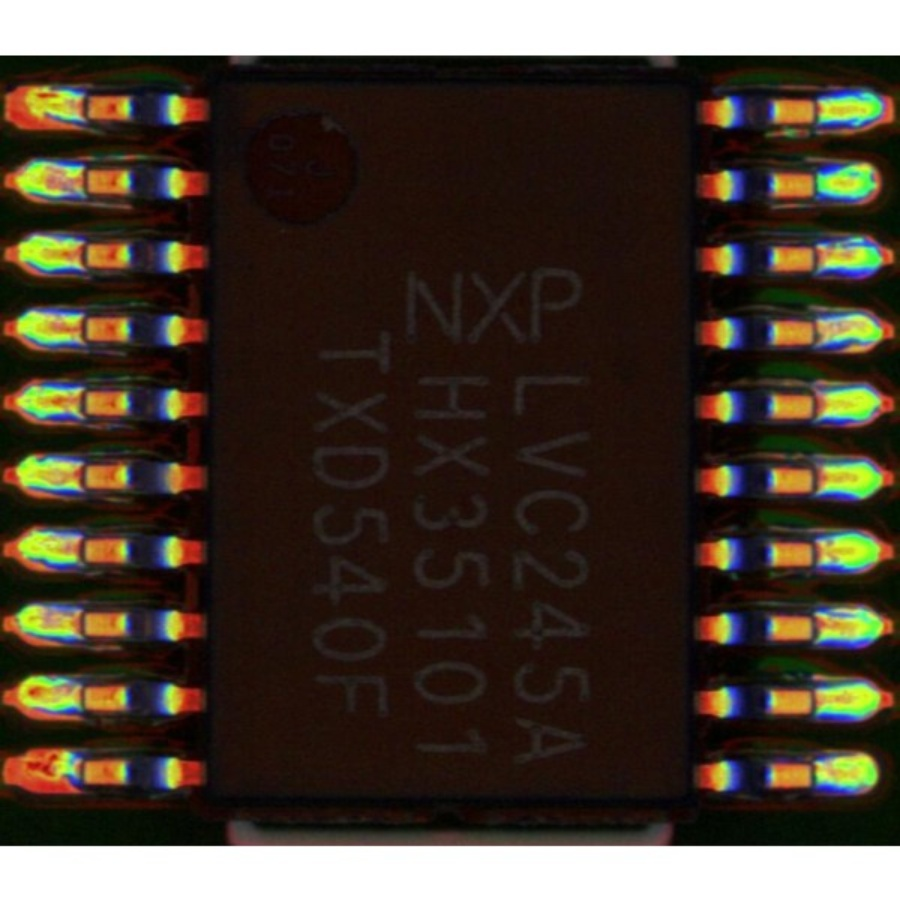Bad_podu: (51, 393, 115, 414), (786, 468, 849, 487), (52, 173, 107, 192), (794, 544, 849, 563), (794, 616, 849, 635), (49, 468, 107, 486), (55, 539, 104, 560), (790, 396, 844, 414), (788, 692, 841, 710), (59, 244, 109, 263), (54, 685, 100, 705), (796, 102, 844, 121), (60, 614, 105, 633), (795, 248, 845, 265), (59, 318, 105, 336), (59, 96, 104, 114), (802, 324, 842, 339)
